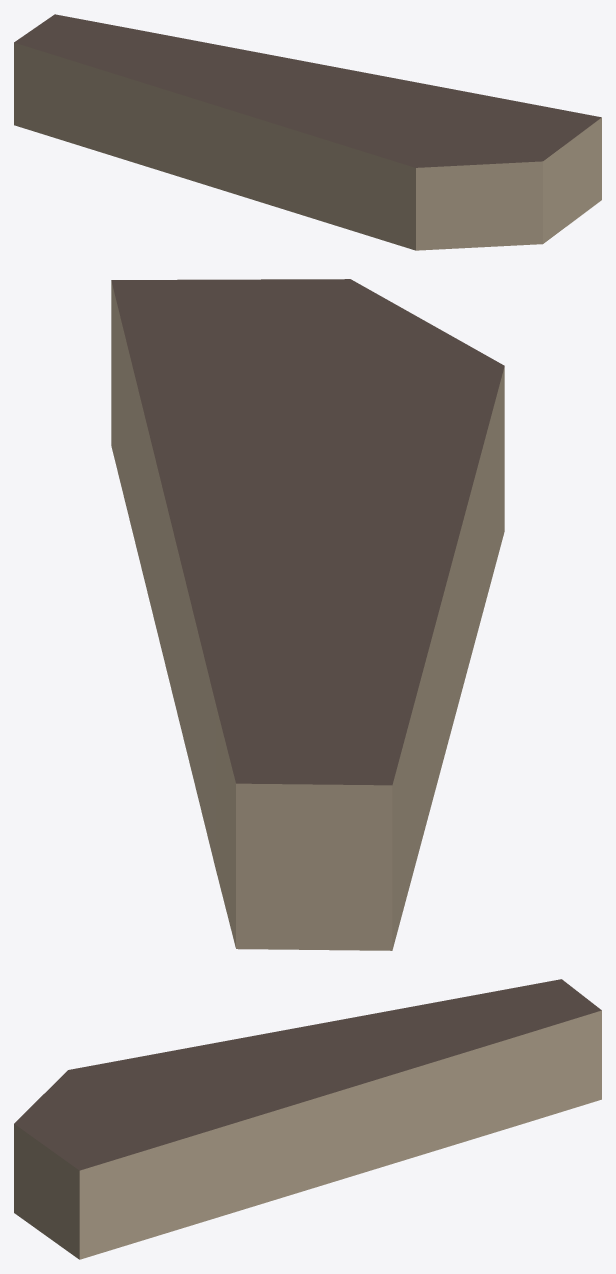
3 renders of one model, top to bottom at view 1: azimuth 30°, elevation 25°; view 2: azimuth 150°, elevation 25°; view 3: azimuth 270°, elevation 25°, orthographic. The views are drawn at different scales.
Parts seen in each view (by area): view 1: HP-w859424218; view 2: HP-w859424218; view 3: HP-w859424218.
Boxes of the visible parts, x1,y1,x2,y2 form: HP-w859424218: (14,14,601,250); HP-w859424218: (111,279,504,950); HP-w859424218: (14,979,601,1259).
Bounding box in the file's own units: 41.47 × 9 × 53.78.
